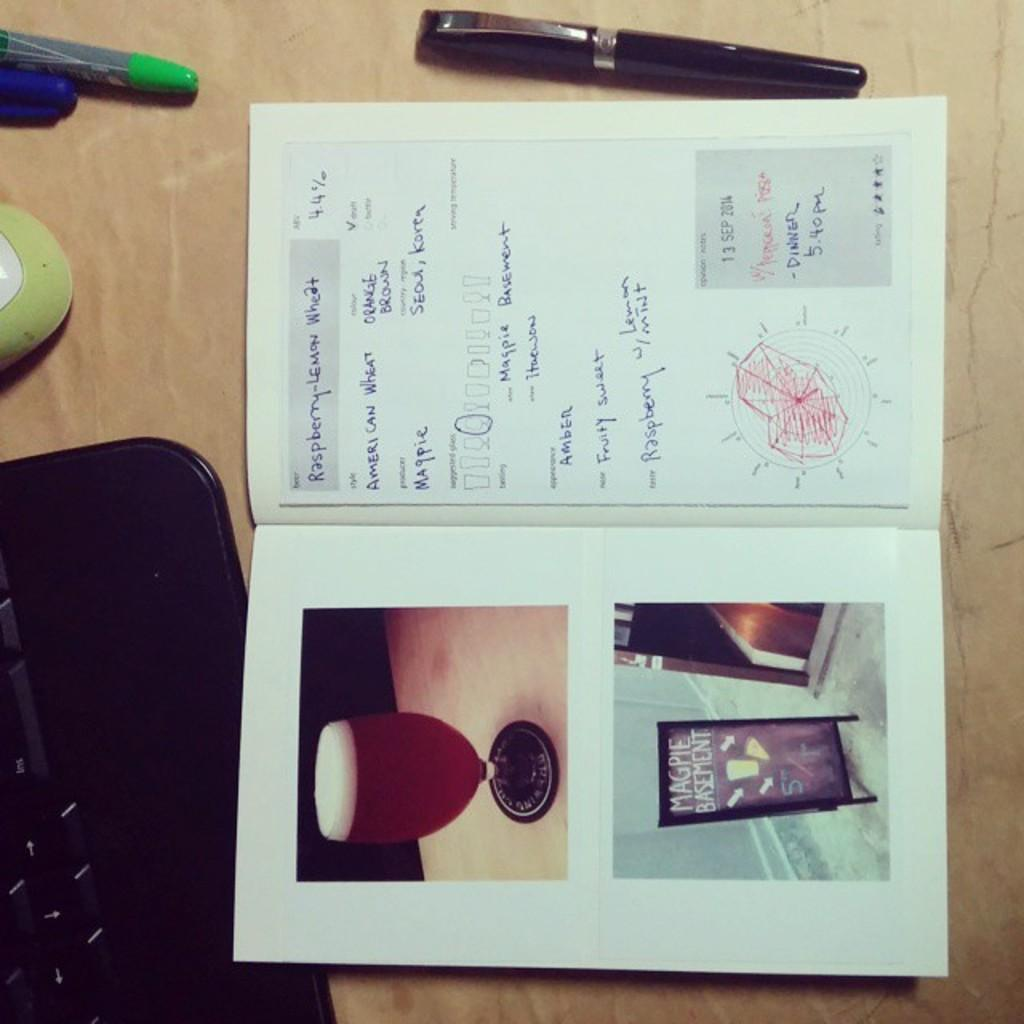pen: (413, 6, 869, 101), (0, 24, 202, 94), (0, 74, 85, 131)
